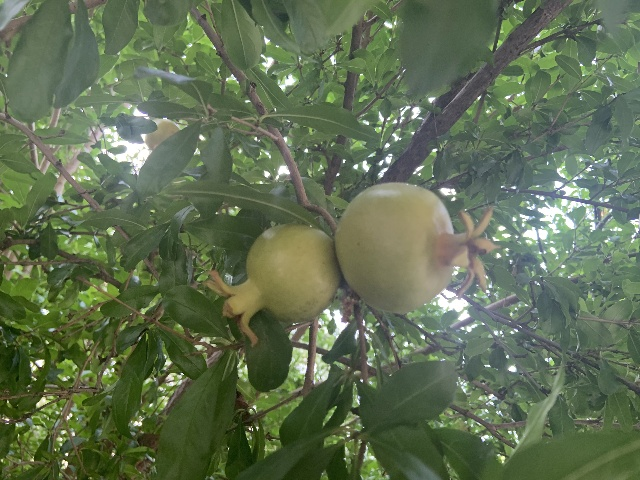mid-growth: (335, 182, 499, 313), (203, 223, 339, 346), (144, 118, 180, 151)
